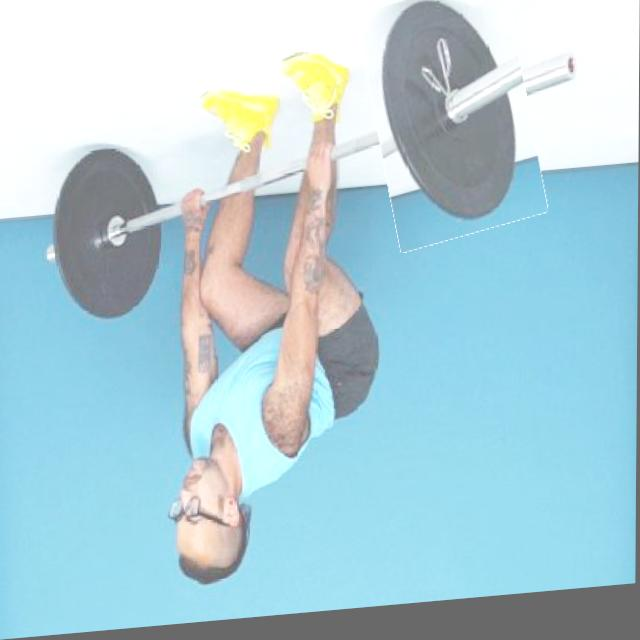barbell: (367, 1, 540, 258)
